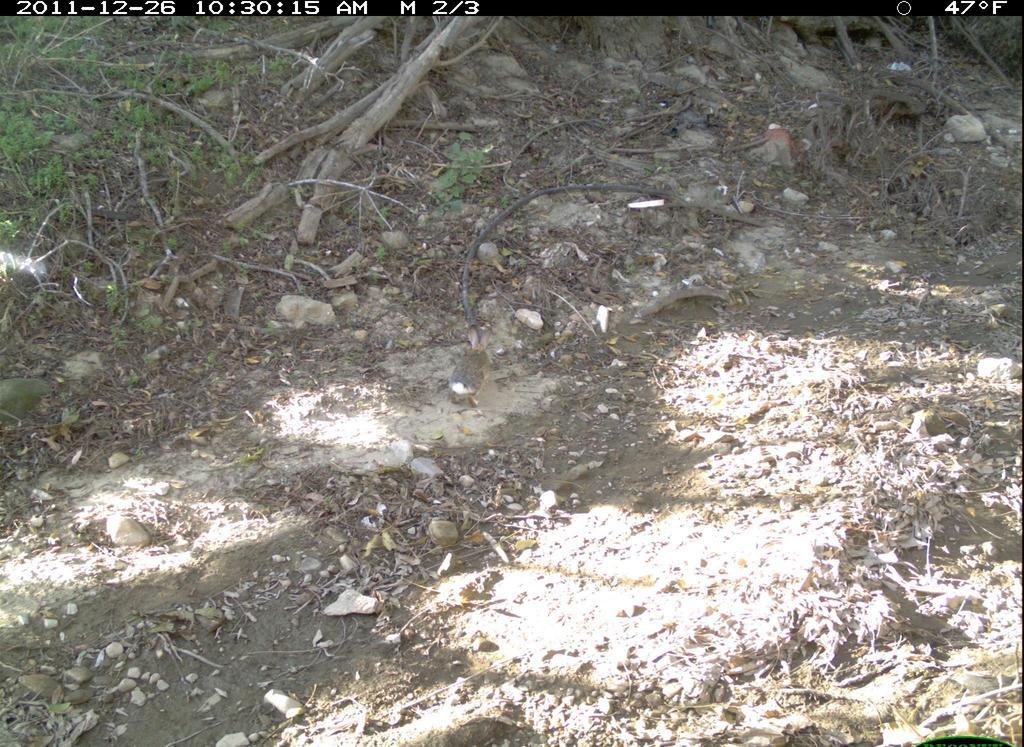rabbit: (442, 317, 498, 417)
